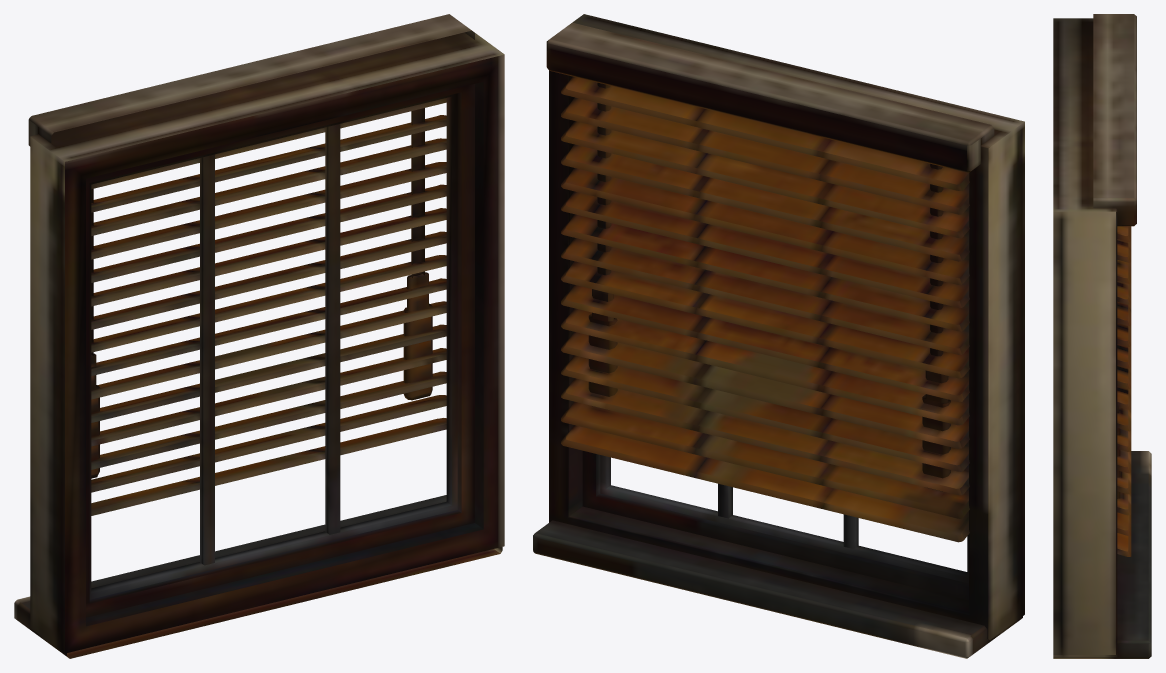
The model's file is OparetionRoom_AI_Prop.041.fbx.
The picture shows the model from 3 angles, left to right: view 1: azimuth 30°, elevation 25°; view 2: azimuth 150°, elevation 25°; view 3: azimuth 270°, elevation 25°; orthographic projection. The views are drawn at different scales.
Parts seen in each view (by area): view 1: OparetionRoom_AI_Prop.041; view 2: OparetionRoom_AI_Prop.041; view 3: OparetionRoom_AI_Prop.041.
Boxes of the visible parts, left/top/right/bottom form: OparetionRoom_AI_Prop.041: left=14, top=14, right=504, bottom=658; OparetionRoom_AI_Prop.041: left=533, top=14, right=1024, bottom=658; OparetionRoom_AI_Prop.041: left=1053, top=14, right=1151, bottom=658.
Size of the model in its own units: 184 by 203 by 39.45.
